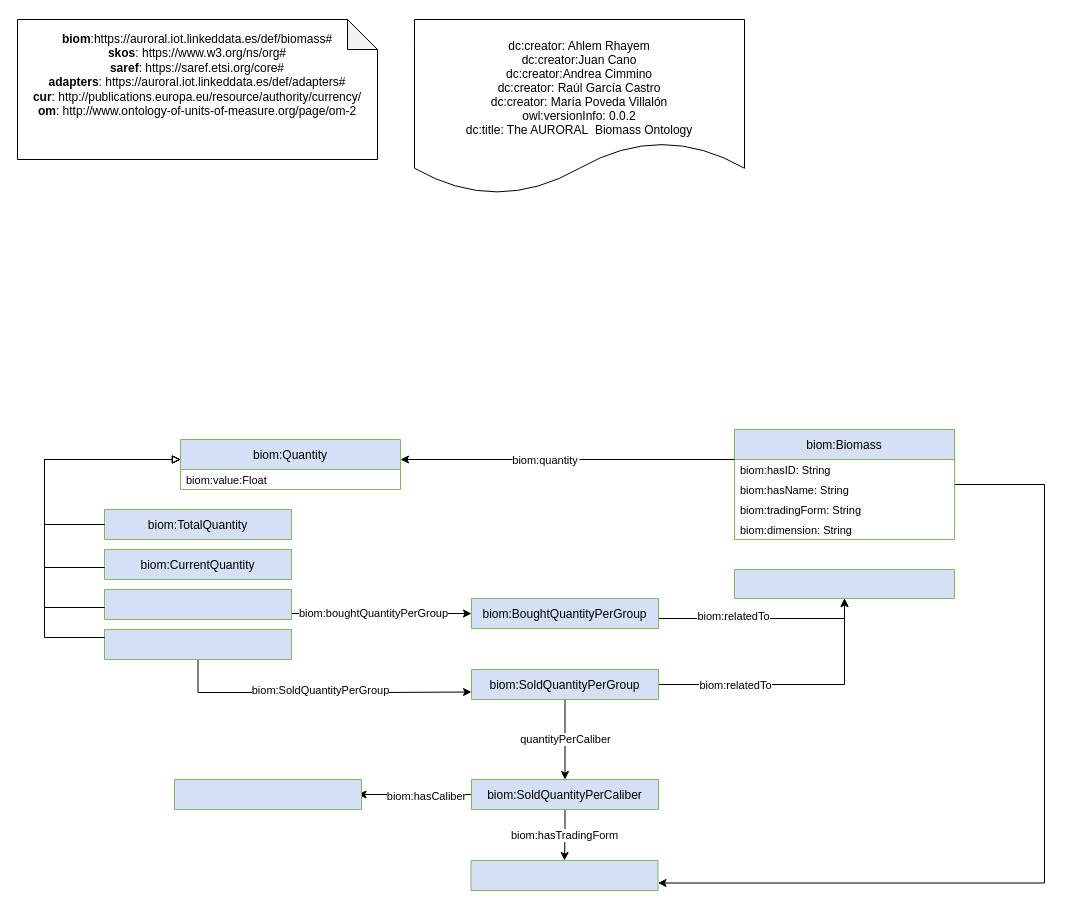
This 1070x908 diagram has some shape labels left out. The centre of each missing label's shape, as x and y in pixels:
"biom:BiomassSubGroup" belongs at point 844,583.
"biom:Caliber" belongs at point 268,794.
"biom:SoldQuantity" belongs at point 198,644.
"biom:TradingForm" belongs at point 564,875.
"ship:BoughtQuantity" belongs at point 198,604.
